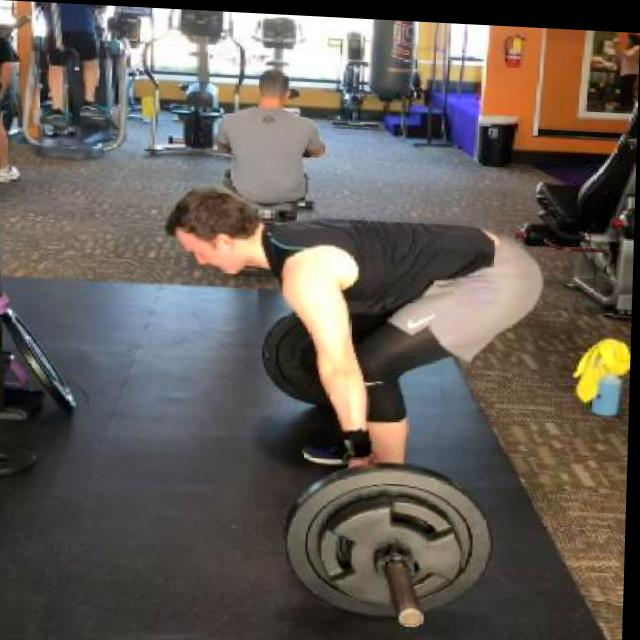barbell: (284, 456, 500, 632)
